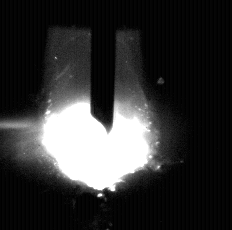arame: (90, 0, 115, 134)
poca: (41, 0, 149, 230)
